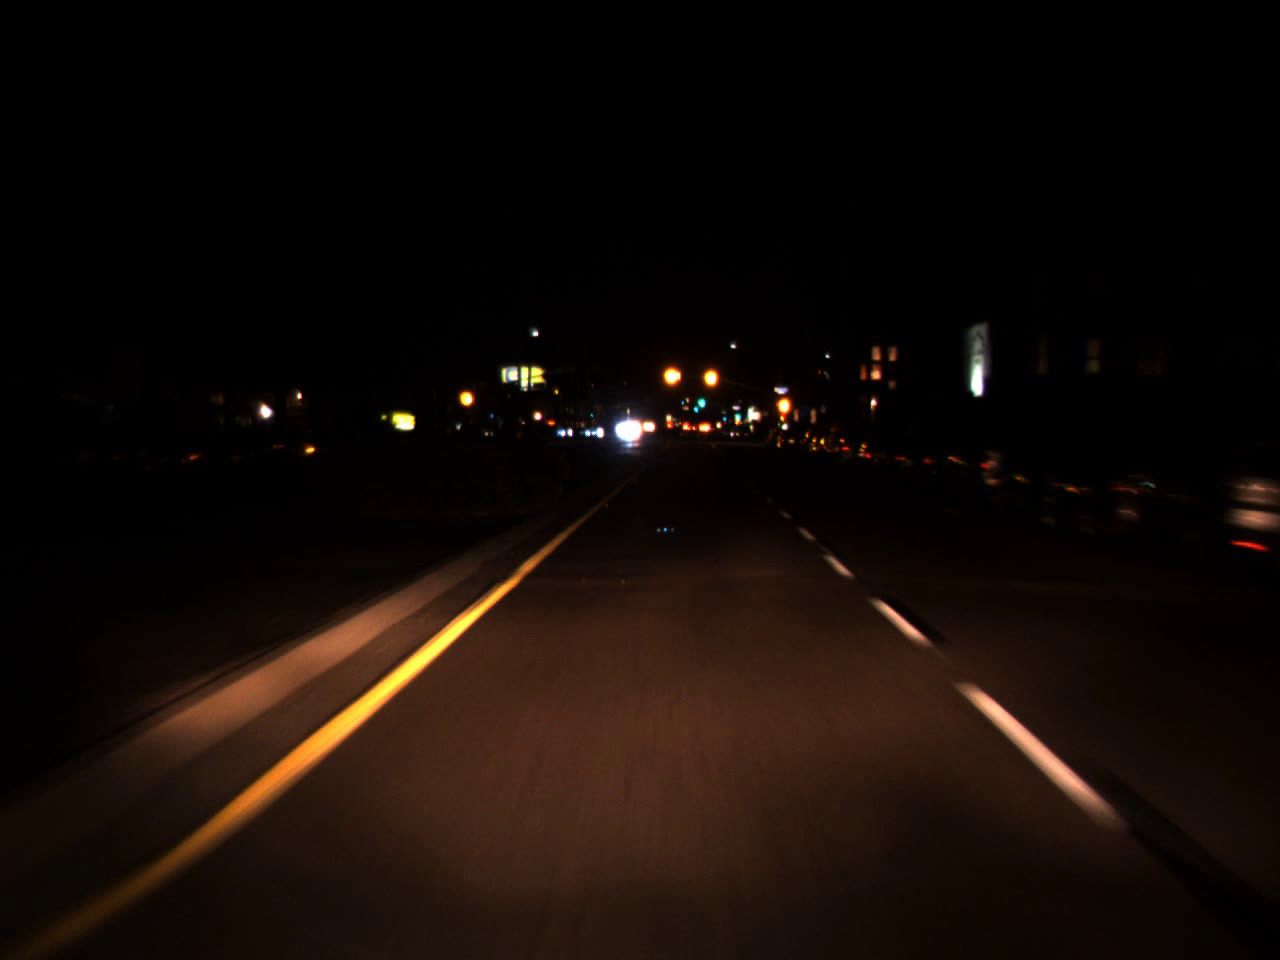go: (694, 389, 706, 410), (734, 405, 741, 423), (692, 402, 699, 414)
warning: (659, 353, 684, 398), (700, 357, 721, 397), (774, 390, 795, 419), (457, 381, 475, 411)
